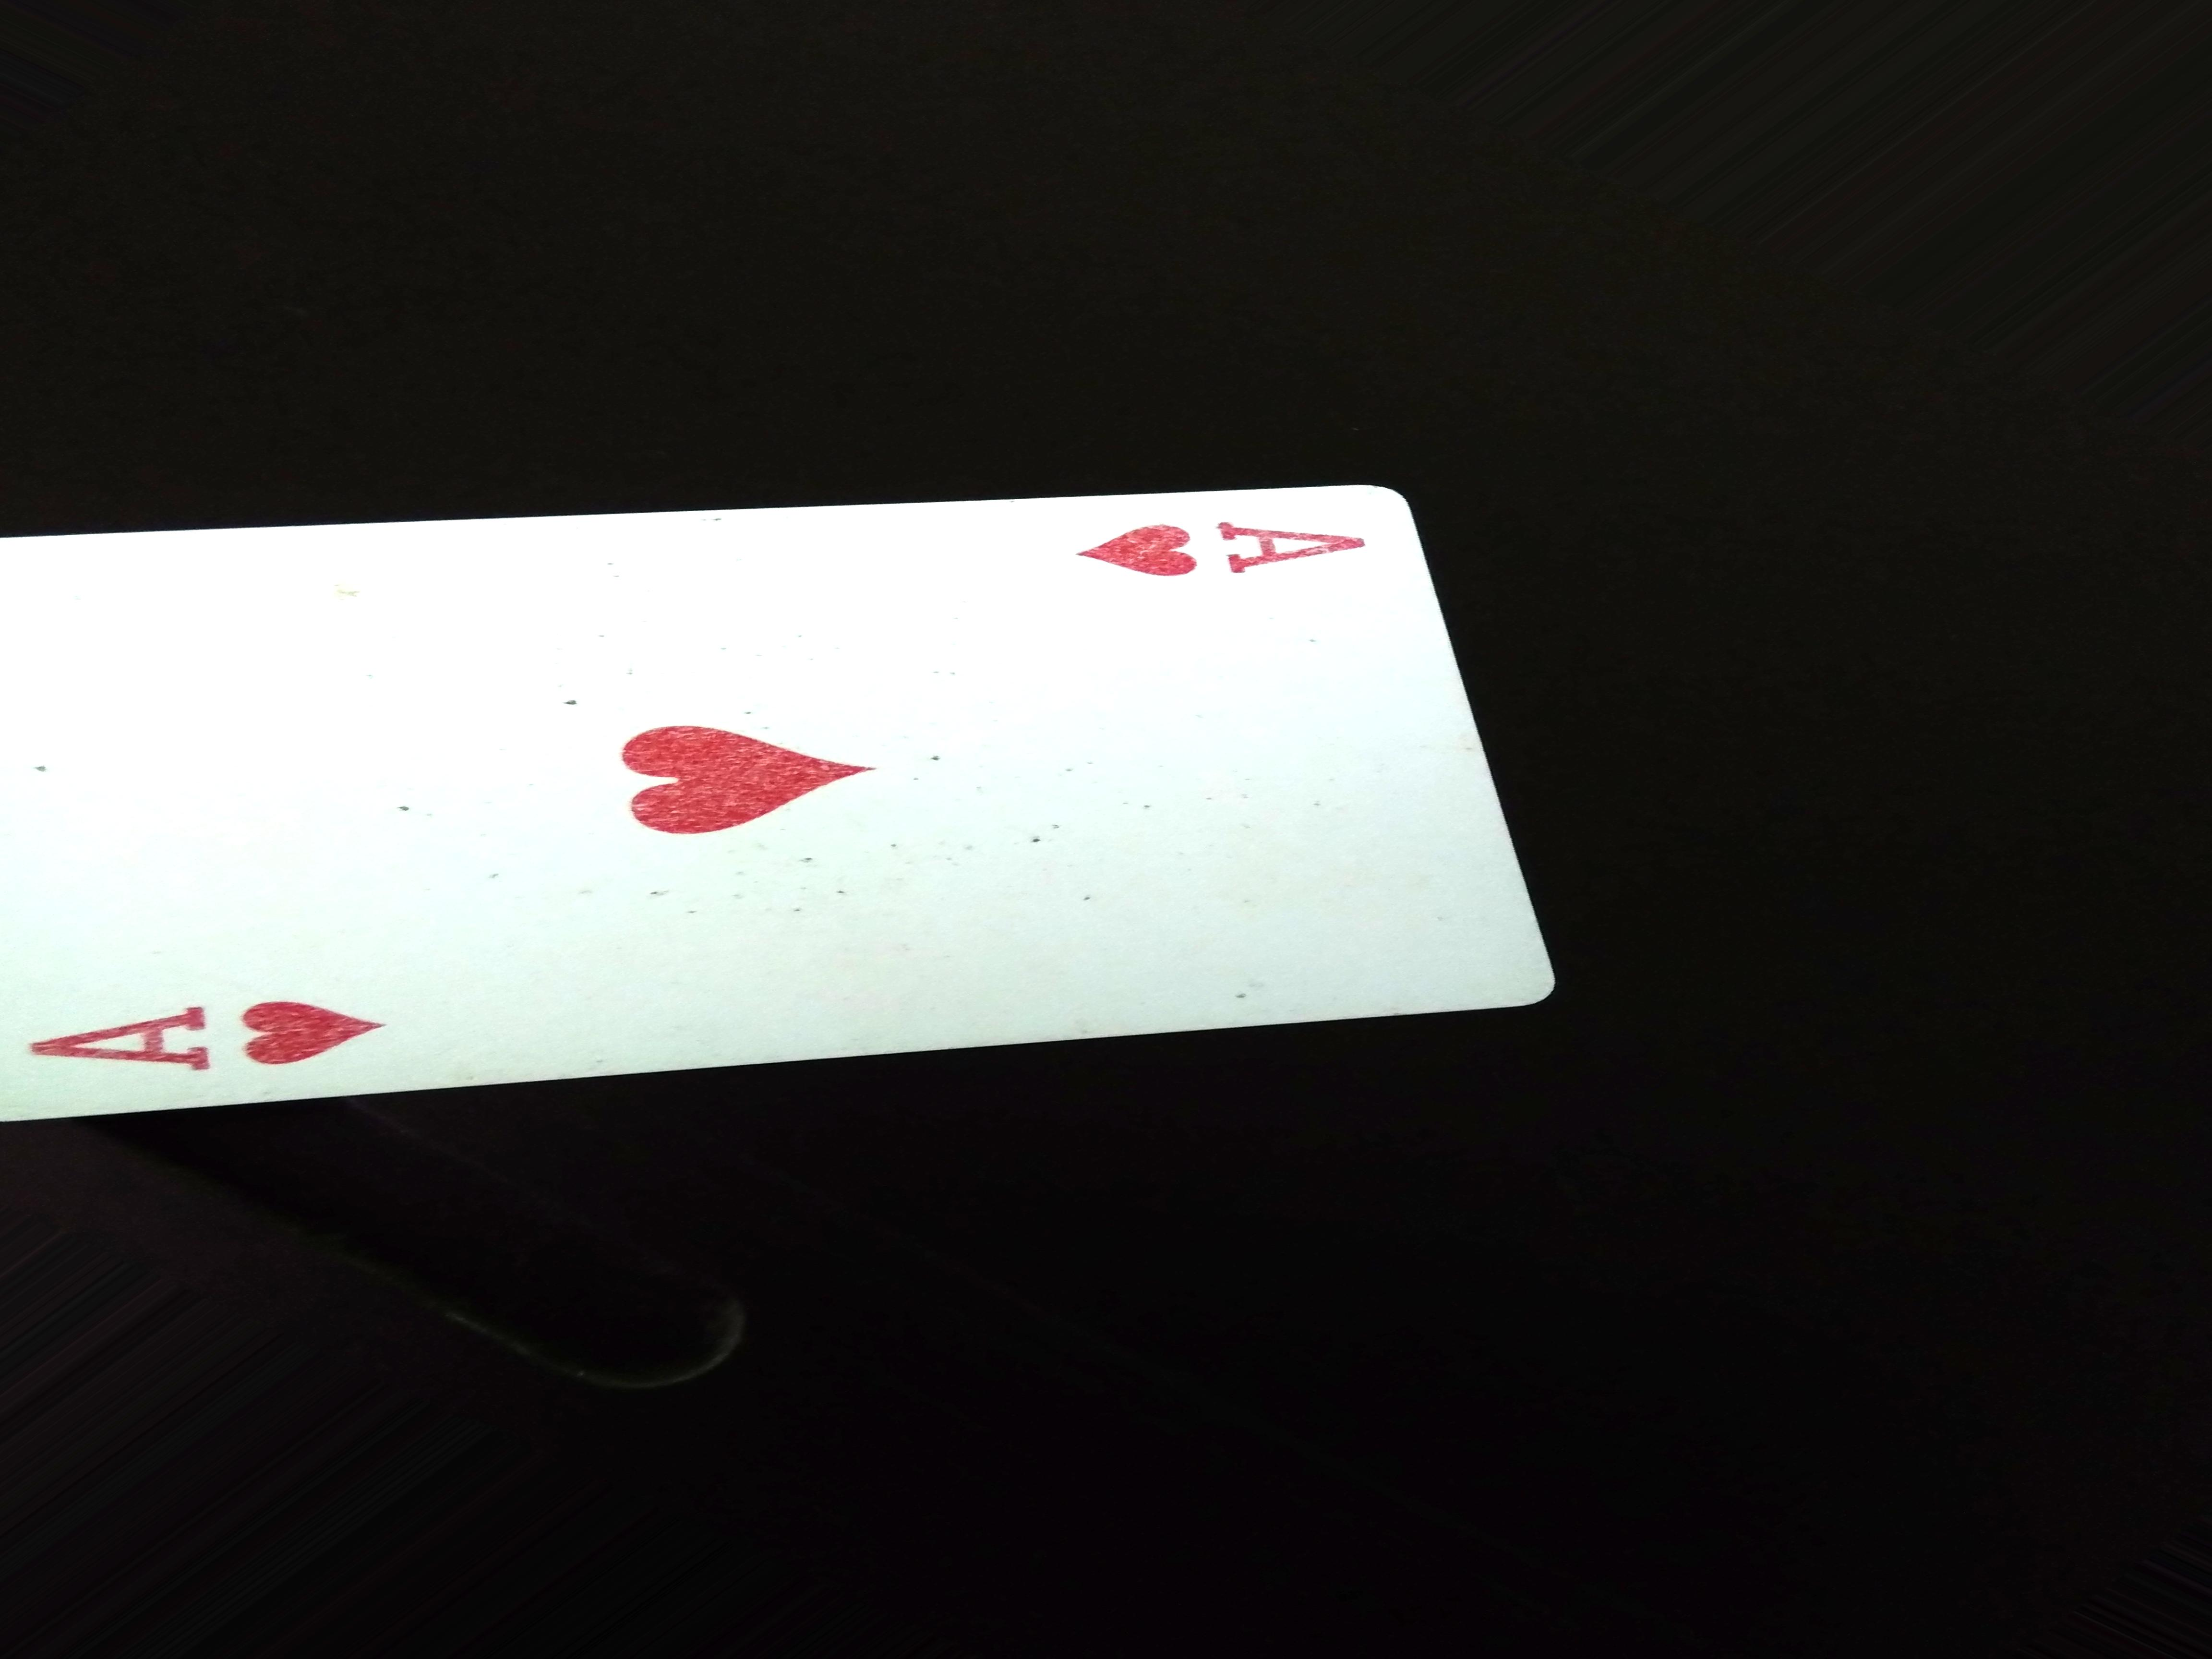AH: (1043, 505, 1383, 596)
